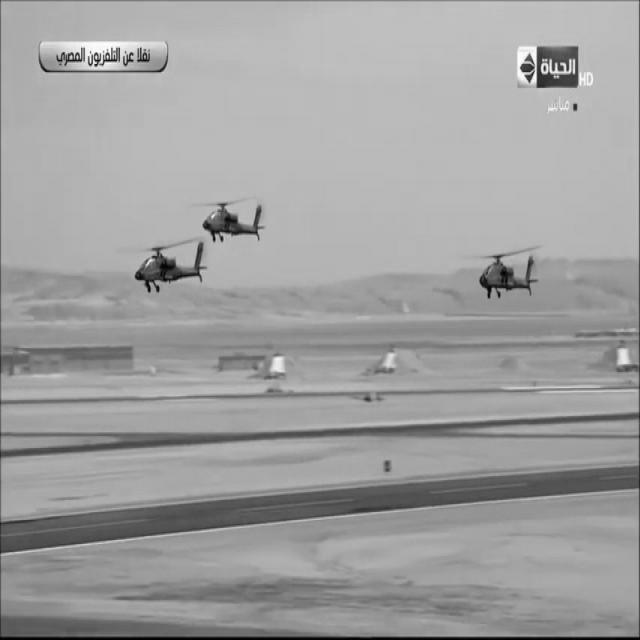helikopter: (134, 190, 272, 308), (476, 238, 556, 318)
